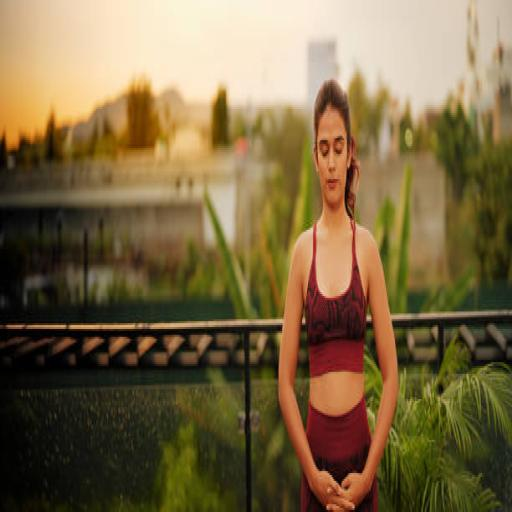Person: (240, 151, 428, 367)
no_gloves: (331, 338, 376, 365), (308, 332, 340, 361)
no_goggle: (310, 203, 342, 218)
no_helmet: (298, 173, 360, 226)
none: (283, 241, 389, 329)
